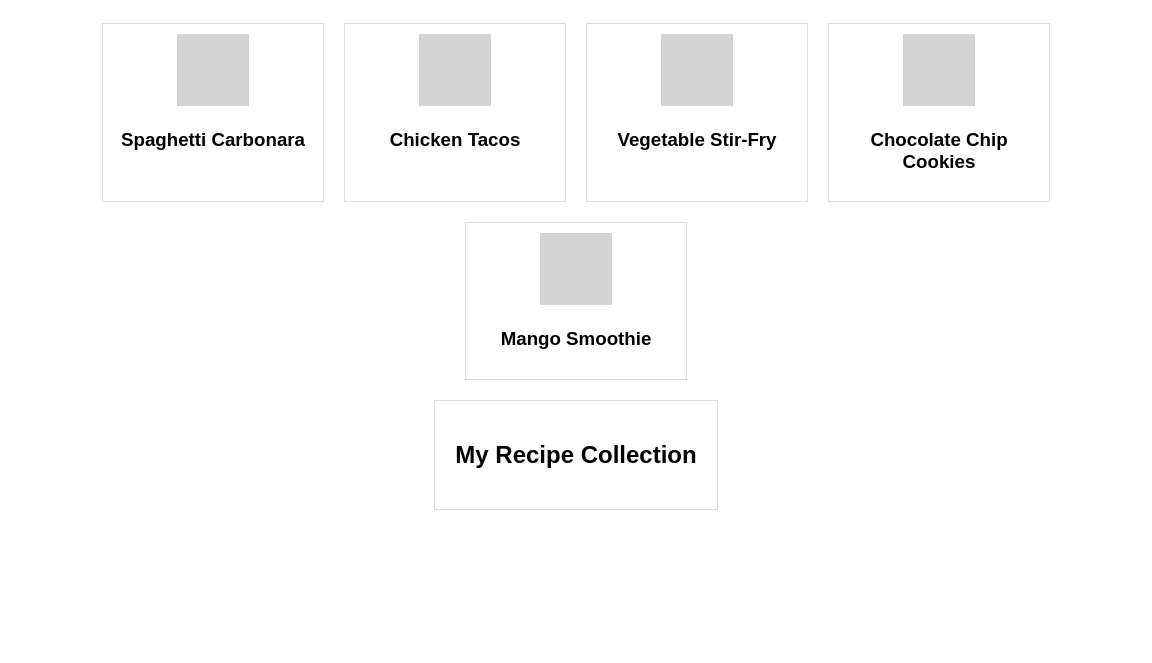
Test: App › displays delete button during the on click of 'Save to Collection' button for the list of recipes › displays_delete_button_for_chicken_tacos
What coordinates should you click on to do the following:
click the heading "Chicken Tacos"
I would click on:
 (455, 139)
Its box is [390,129,520,150].
(page scrolled)
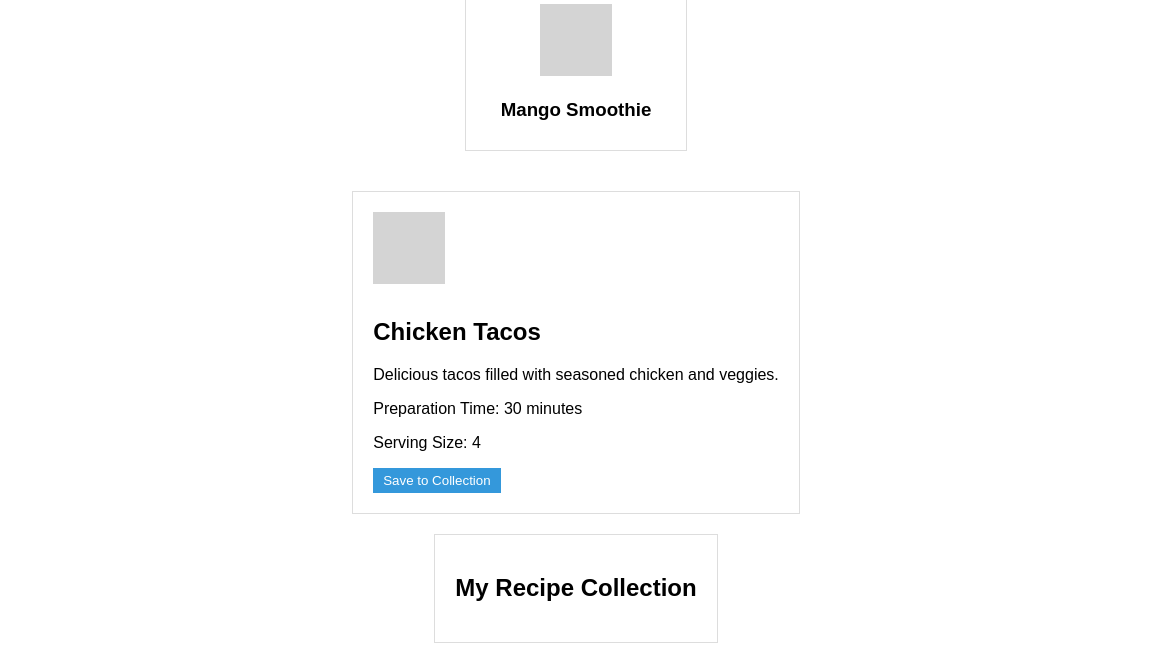
Result: the button "Save to Collection" is shown
What coordinates should you click on to do the following:
click the button "Save to Collection"
I would click on:
 (437, 480)
Its box is [373,468,501,493].
(page scrolled)
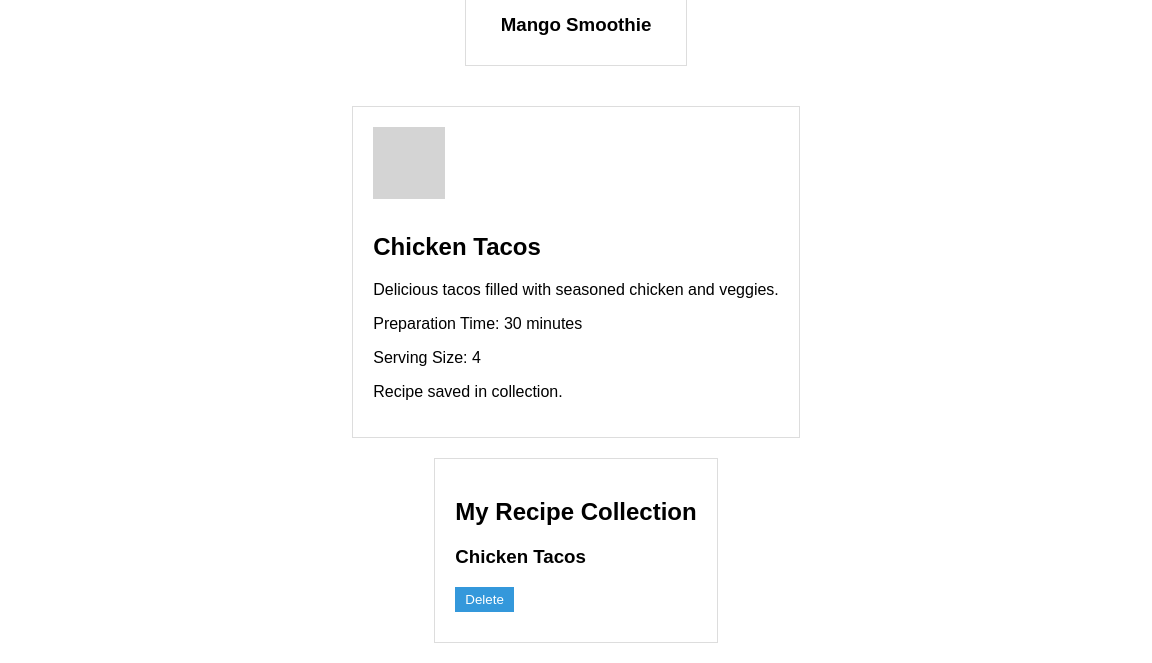
Result: the button "Delete" is shown at [455,587,514,612]
